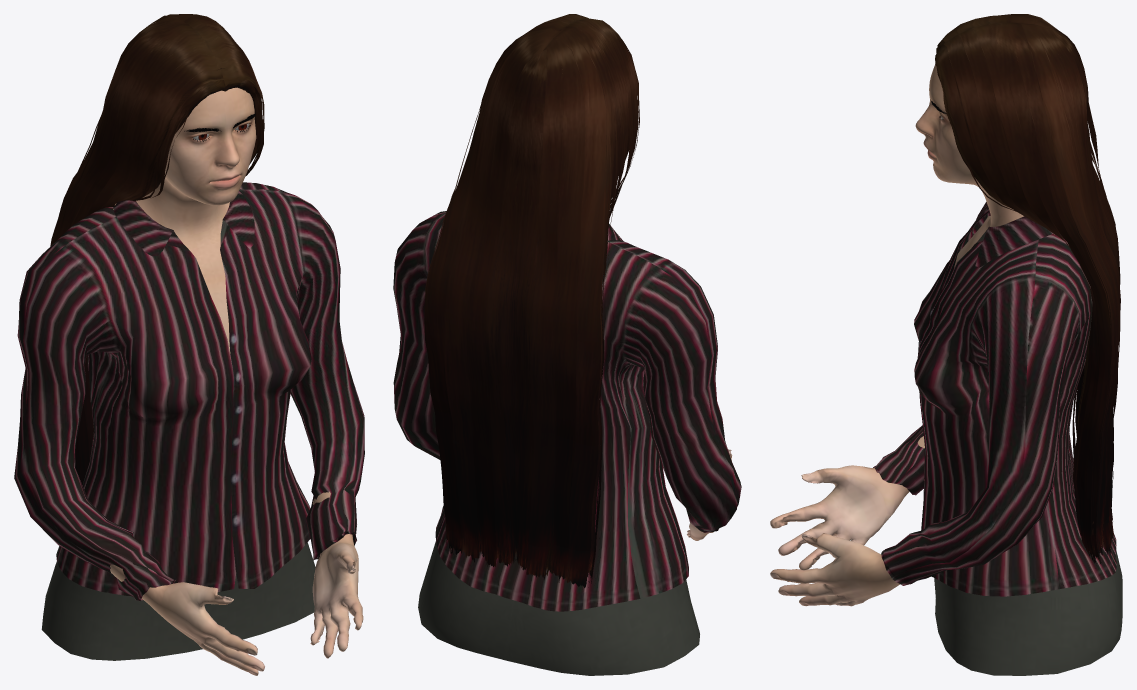
File: f_mid_ca.glb
The picture shows the model from 3 angles, left to right: view 1: azimuth 30°, elevation 25°; view 2: azimuth 150°, elevation 25°; view 3: azimuth 270°, elevation 25°; orthographic projection.
Parts seen in each view (by area): view 1: Human.female_elegantsuit01, Human, Human.long01; view 2: Human.long01, Human.female_elegantsuit01; view 3: Human.female_elegantsuit01, Human.long01, Human.
Part boxes in pixels (x1,y1,x2,y2): Human.female_elegantsuit01: (14,182,364,660); Human: (110,87,363,675); Human.long01: (50,14,264,484); Human.long01: (424,14,639,587); Human.female_elegantsuit01: (393,211,741,675); Human.female_elegantsuit01: (873,202,1122,675); Human.long01: (935,14,1120,563); Human: (770,64,1054,606).
Size of the model in its own units: 0.4778 by 0.8161 by 0.4393.
9 materials, 9 textured.
